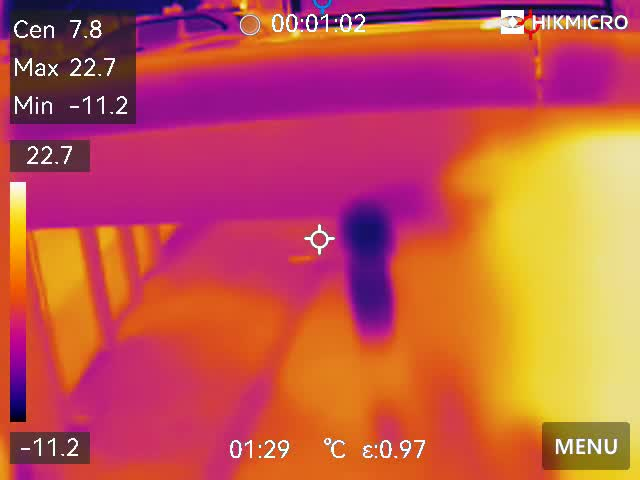largeCar: (68, 13, 247, 50)
